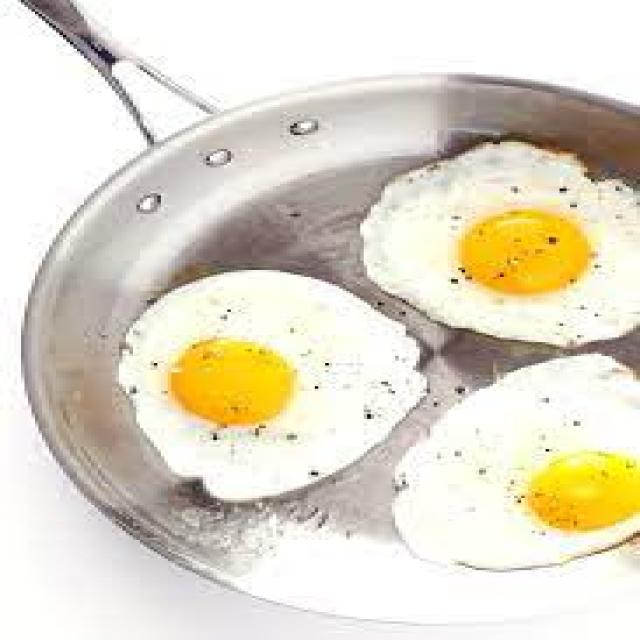Egg: (118, 270, 426, 501), (361, 141, 639, 346), (394, 354, 639, 569)
